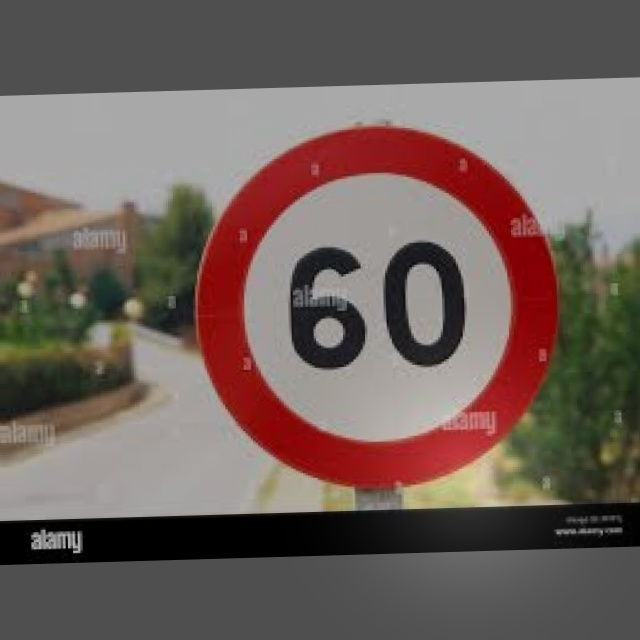Speed_Limit_60: (196, 122, 559, 479)
